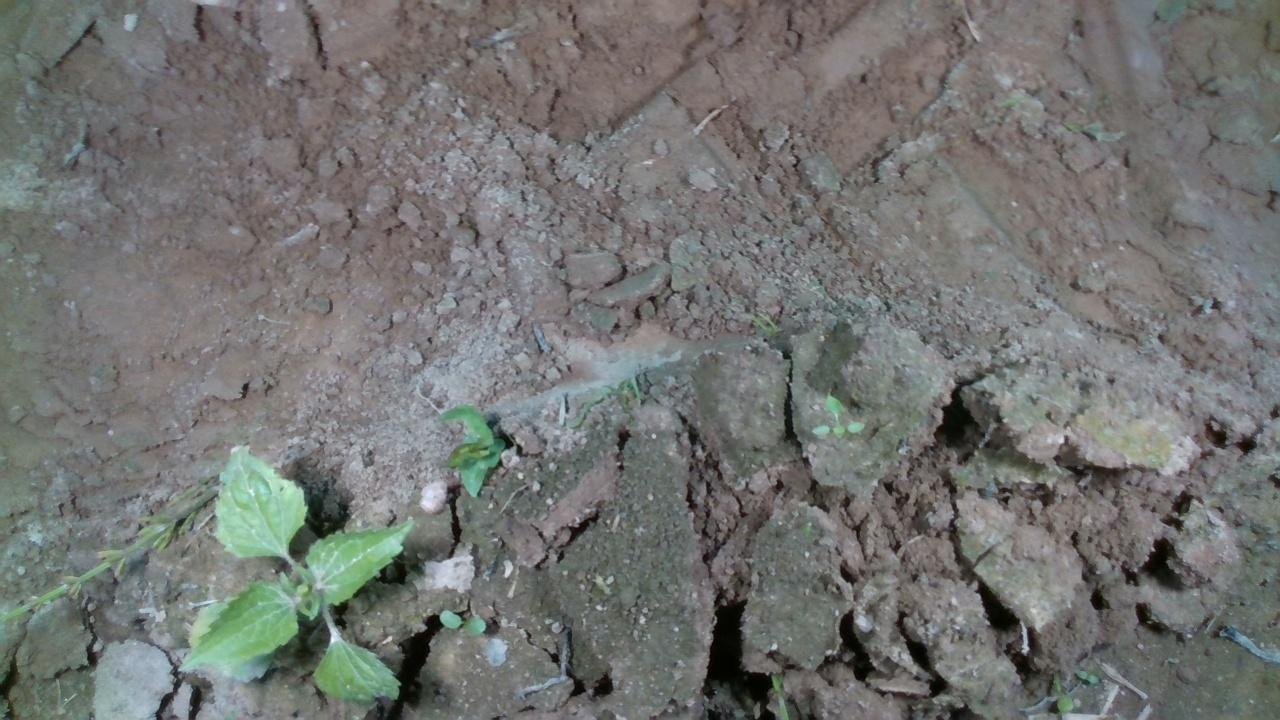weed: (808, 393, 866, 436), (437, 607, 487, 636), (1074, 667, 1100, 684)
